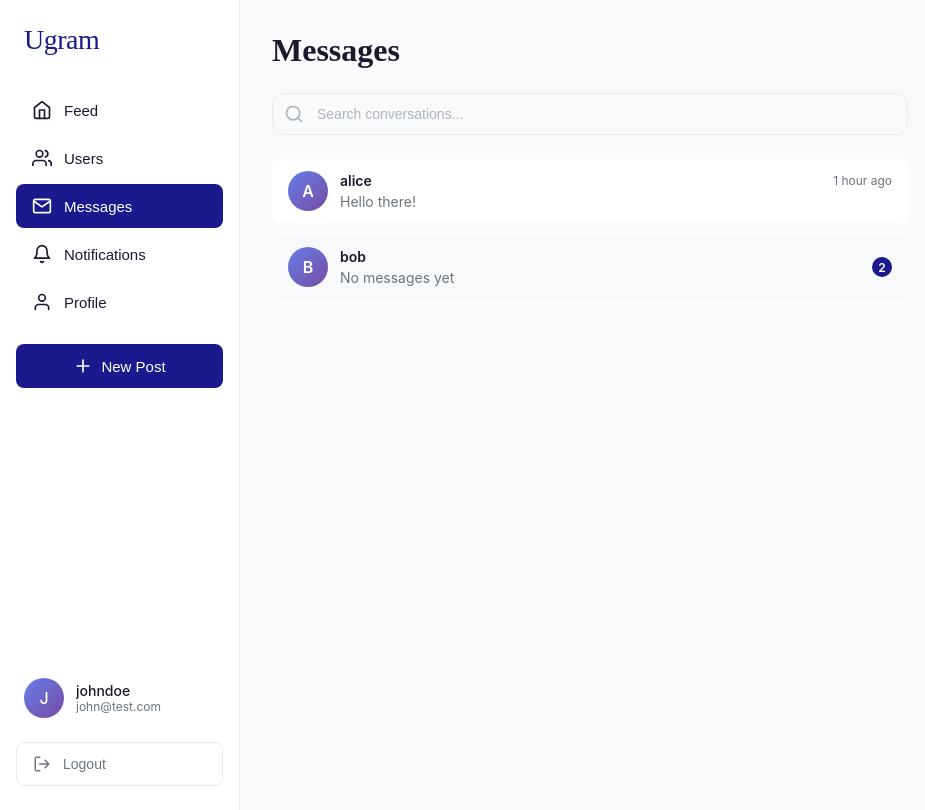
Test: MessagesPage › shows empty state when search has no results
Expected: the text "alice" is shown, [340, 172, 372, 189]
Step 1. Type "nonexistent" into the field with placeholder "Search conversations..." → (590, 114), box [272, 93, 908, 135]
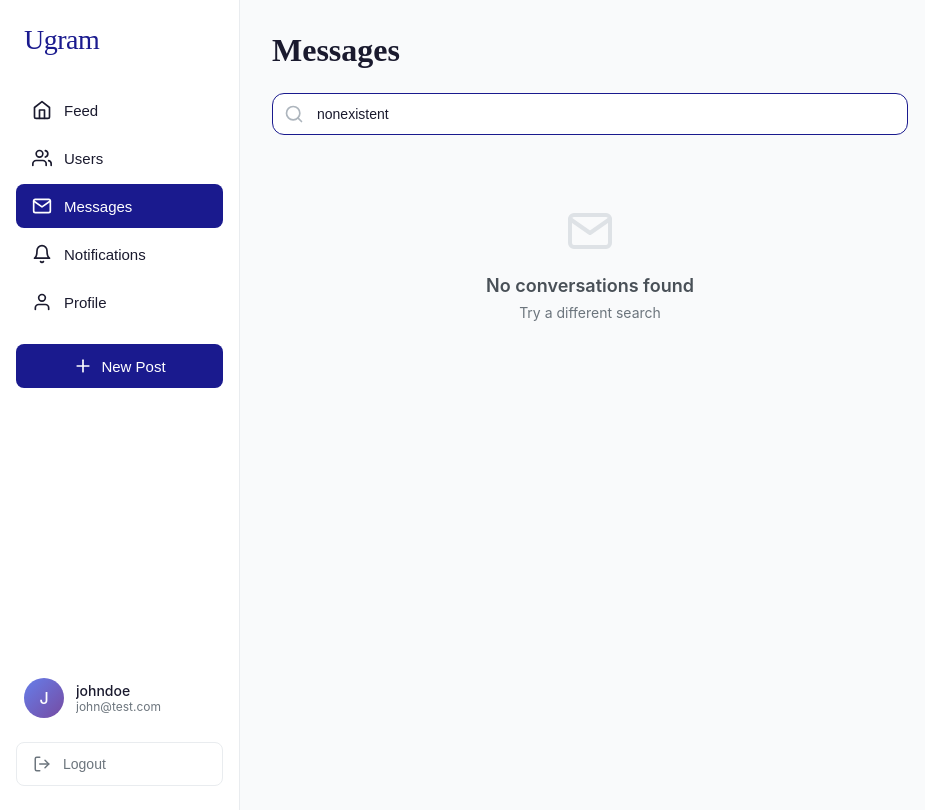
Expected: the heading "No conversations found" is shown, [486, 275, 694, 296]
